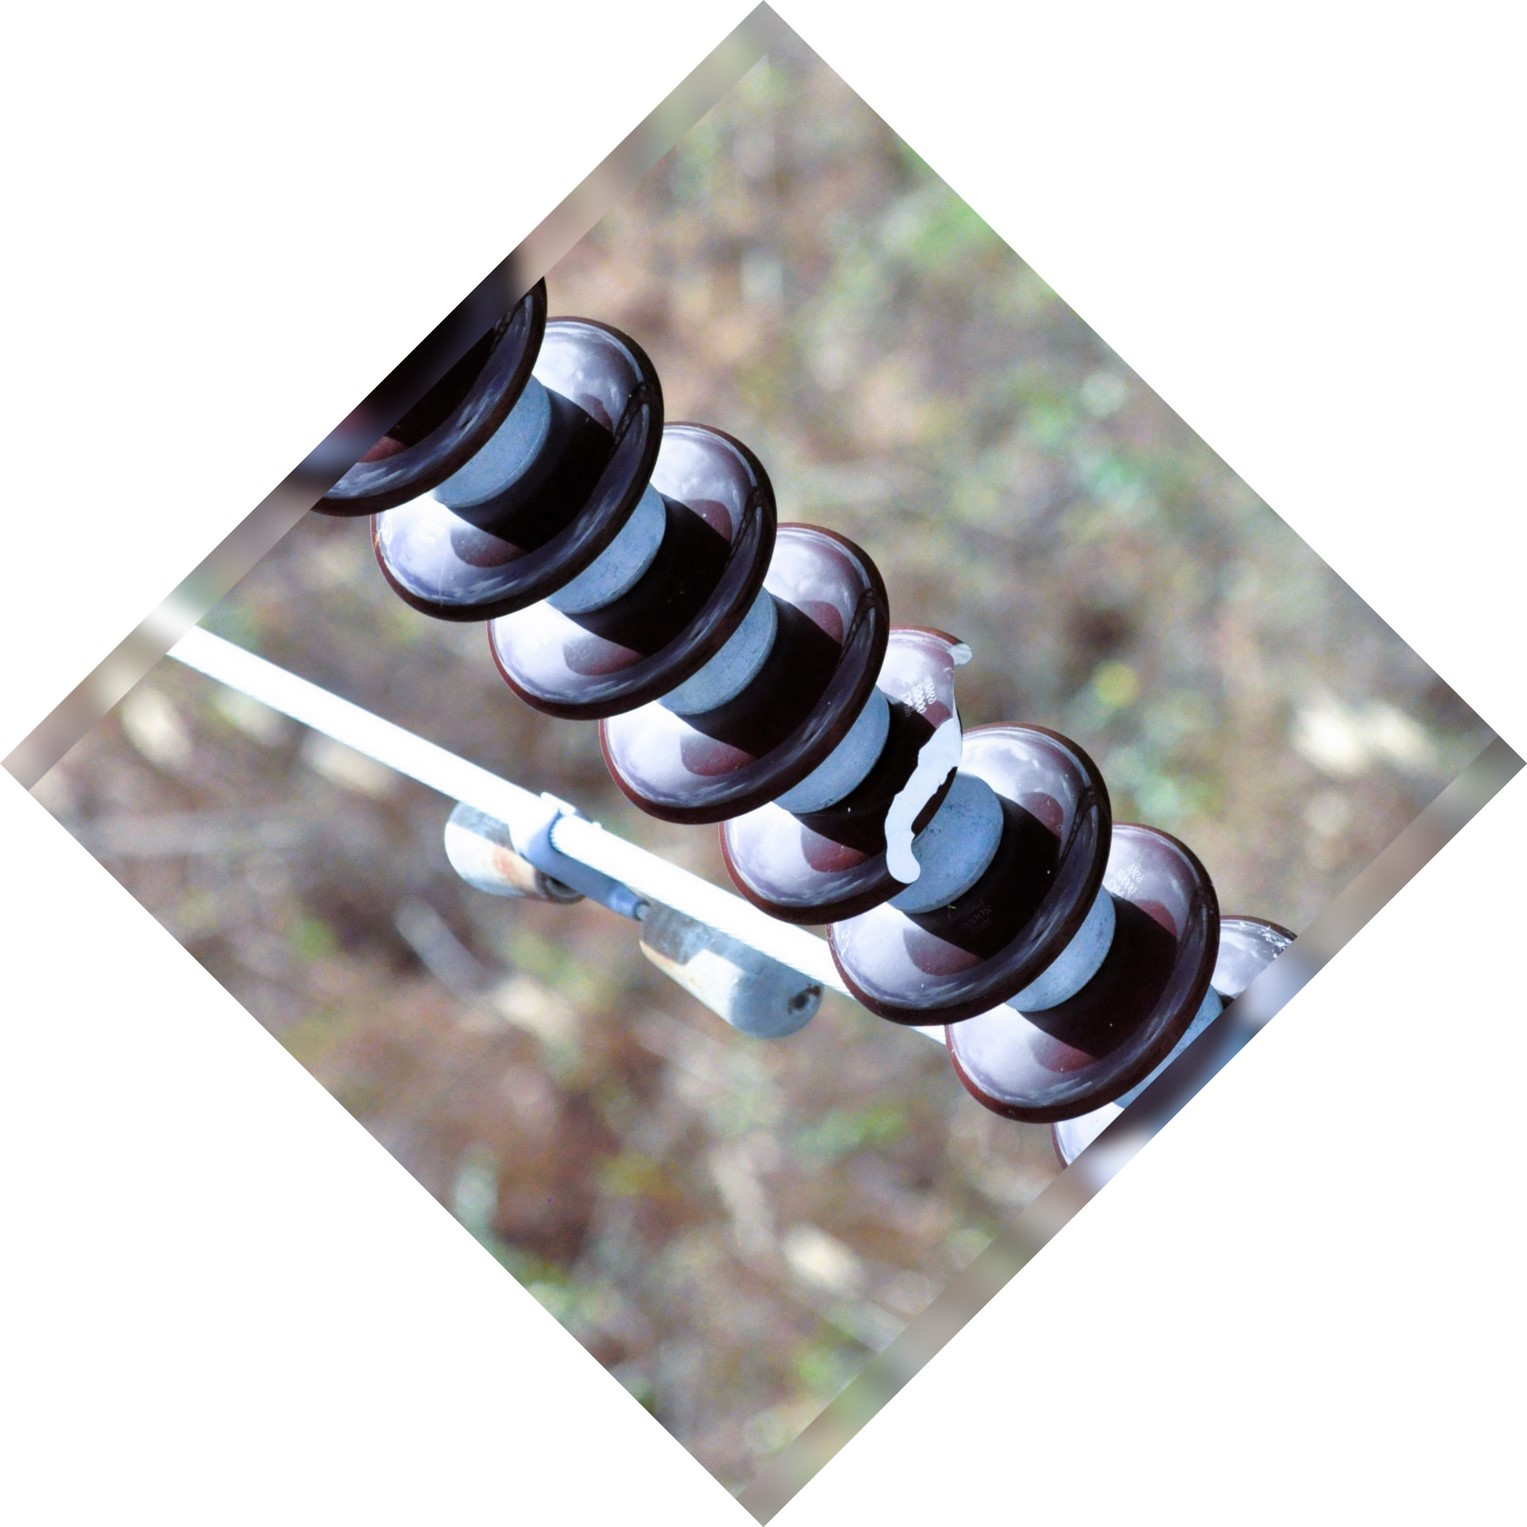insulator breakage: (708, 618, 996, 916)
